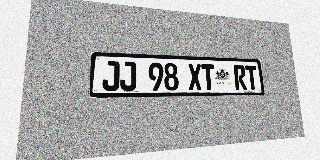8: (164, 63, 179, 91)
9: (148, 62, 164, 91)
J: (102, 61, 119, 91), (120, 61, 136, 91)
R: (233, 65, 247, 90)
T: (201, 64, 216, 90), (245, 65, 259, 90)
X: (188, 64, 202, 90)
